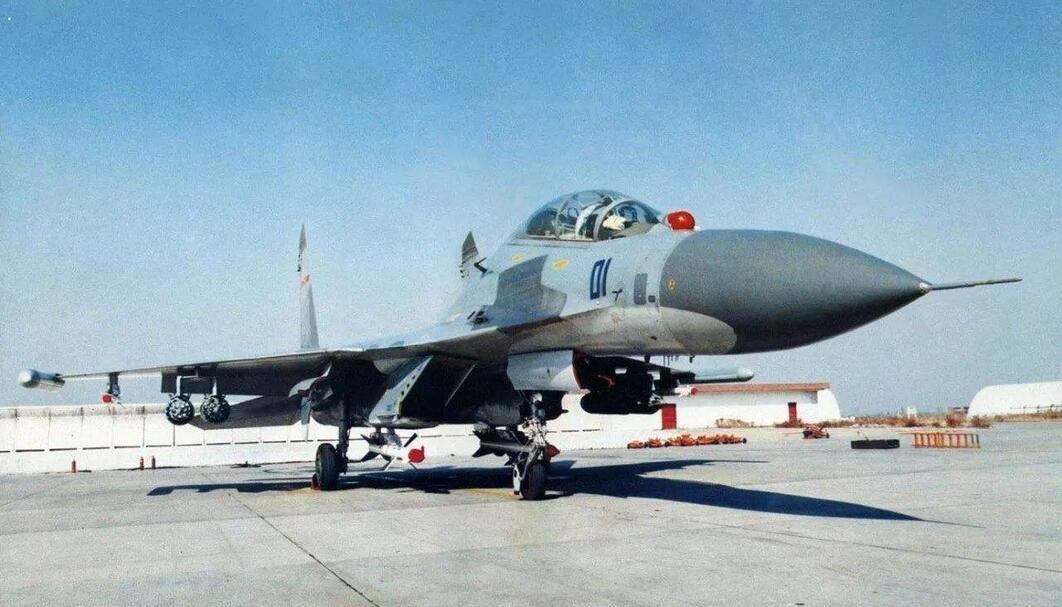airplane: (10, 193, 1027, 500)
